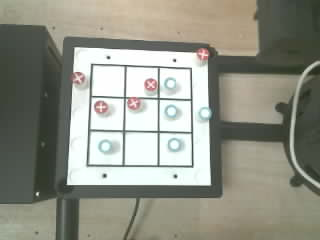blue circle: (168, 138, 181, 151), (98, 140, 111, 153), (165, 104, 177, 118), (164, 77, 176, 89), (199, 107, 211, 119)
board: (67, 47, 211, 185)
cells: (90, 98, 123, 130), (89, 132, 122, 164), (125, 132, 157, 165), (125, 99, 157, 130), (160, 133, 191, 165), (159, 100, 191, 131), (92, 66, 124, 96), (126, 67, 157, 97), (160, 68, 190, 98)
grid: (87, 64, 193, 167)
red cross: (94, 100, 108, 113), (144, 78, 157, 91), (70, 72, 84, 84), (127, 97, 140, 109), (196, 48, 209, 60)
